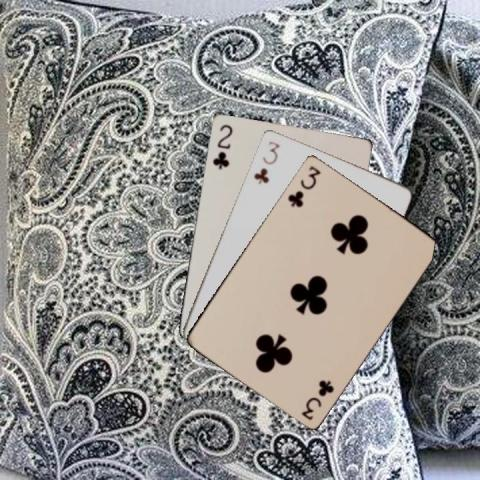2c: (209, 120, 234, 170)
3c: (284, 162, 322, 208), (298, 376, 336, 421), (250, 138, 281, 186)
